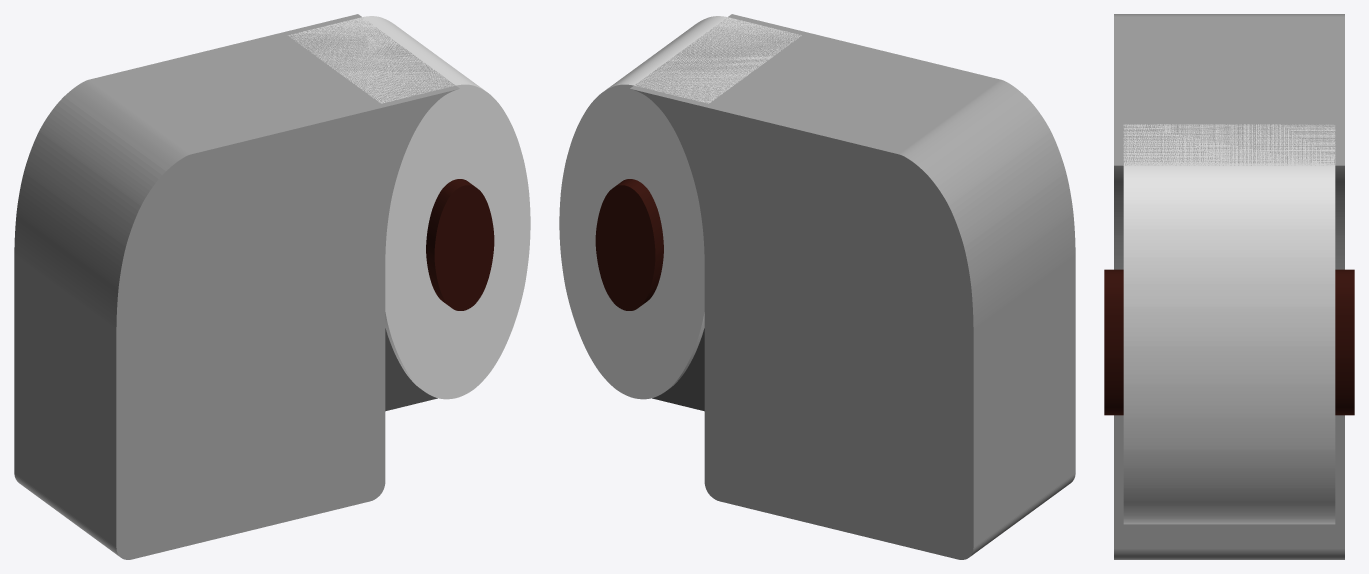
3 views of the same model, side by side, from view 1: azimuth 30°, elevation 25°; view 2: azimuth 150°, elevation 25°; view 3: azimuth 270°, elevation 25° (orthographic). The views are drawn at different scales.
Parts seen in each view (by area): view 1: U+1F9FB_layer02_obj00, U+1F9FB_layer01_obj00, U+1F9FB_layer03_obj00, U+1F9FB_layer00_obj00; view 2: U+1F9FB_layer02_obj00, U+1F9FB_layer01_obj00, U+1F9FB_layer03_obj00, U+1F9FB_layer00_obj00; view 3: U+1F9FB_layer01_obj00, U+1F9FB_layer02_obj00, U+1F9FB_layer03_obj00.
Part boxes in pixels (box(x1,y1,x2,y2)): U+1F9FB_layer02_obj00: box(14, 14, 459, 559); U+1F9FB_layer01_obj00: box(288, 16, 530, 399); U+1F9FB_layer03_obj00: box(426, 179, 494, 310); U+1F9FB_layer00_obj00: box(385, 328, 437, 411); U+1F9FB_layer02_obj00: box(630, 14, 1075, 559); U+1F9FB_layer01_obj00: box(559, 16, 801, 399); U+1F9FB_layer03_obj00: box(595, 179, 663, 310); U+1F9FB_layer00_obj00: box(652, 328, 704, 411); U+1F9FB_layer01_obj00: box(1123, 124, 1335, 524); U+1F9FB_layer02_obj00: box(1114, 14, 1344, 559); U+1F9FB_layer03_obj00: box(1104, 269, 1354, 415).
Bounding box in the file's own units: 0.5678 × 0.5068 × 0.26.
